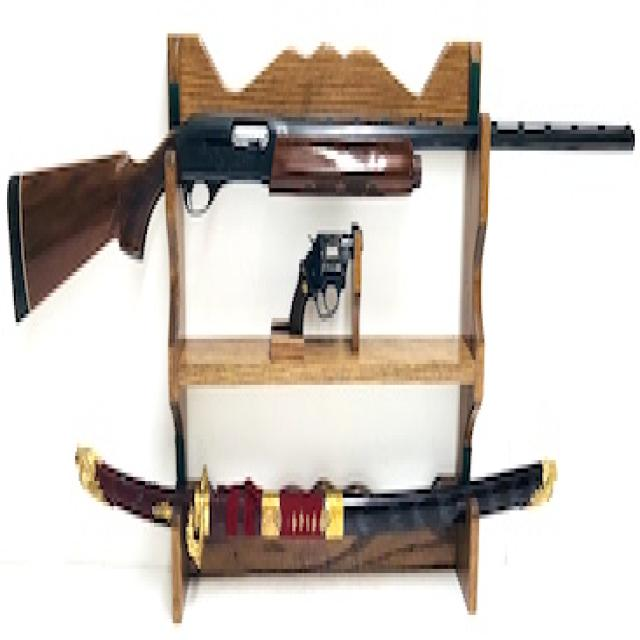HandGun: (287, 234, 353, 339)
ShotGun: (9, 117, 637, 318)
